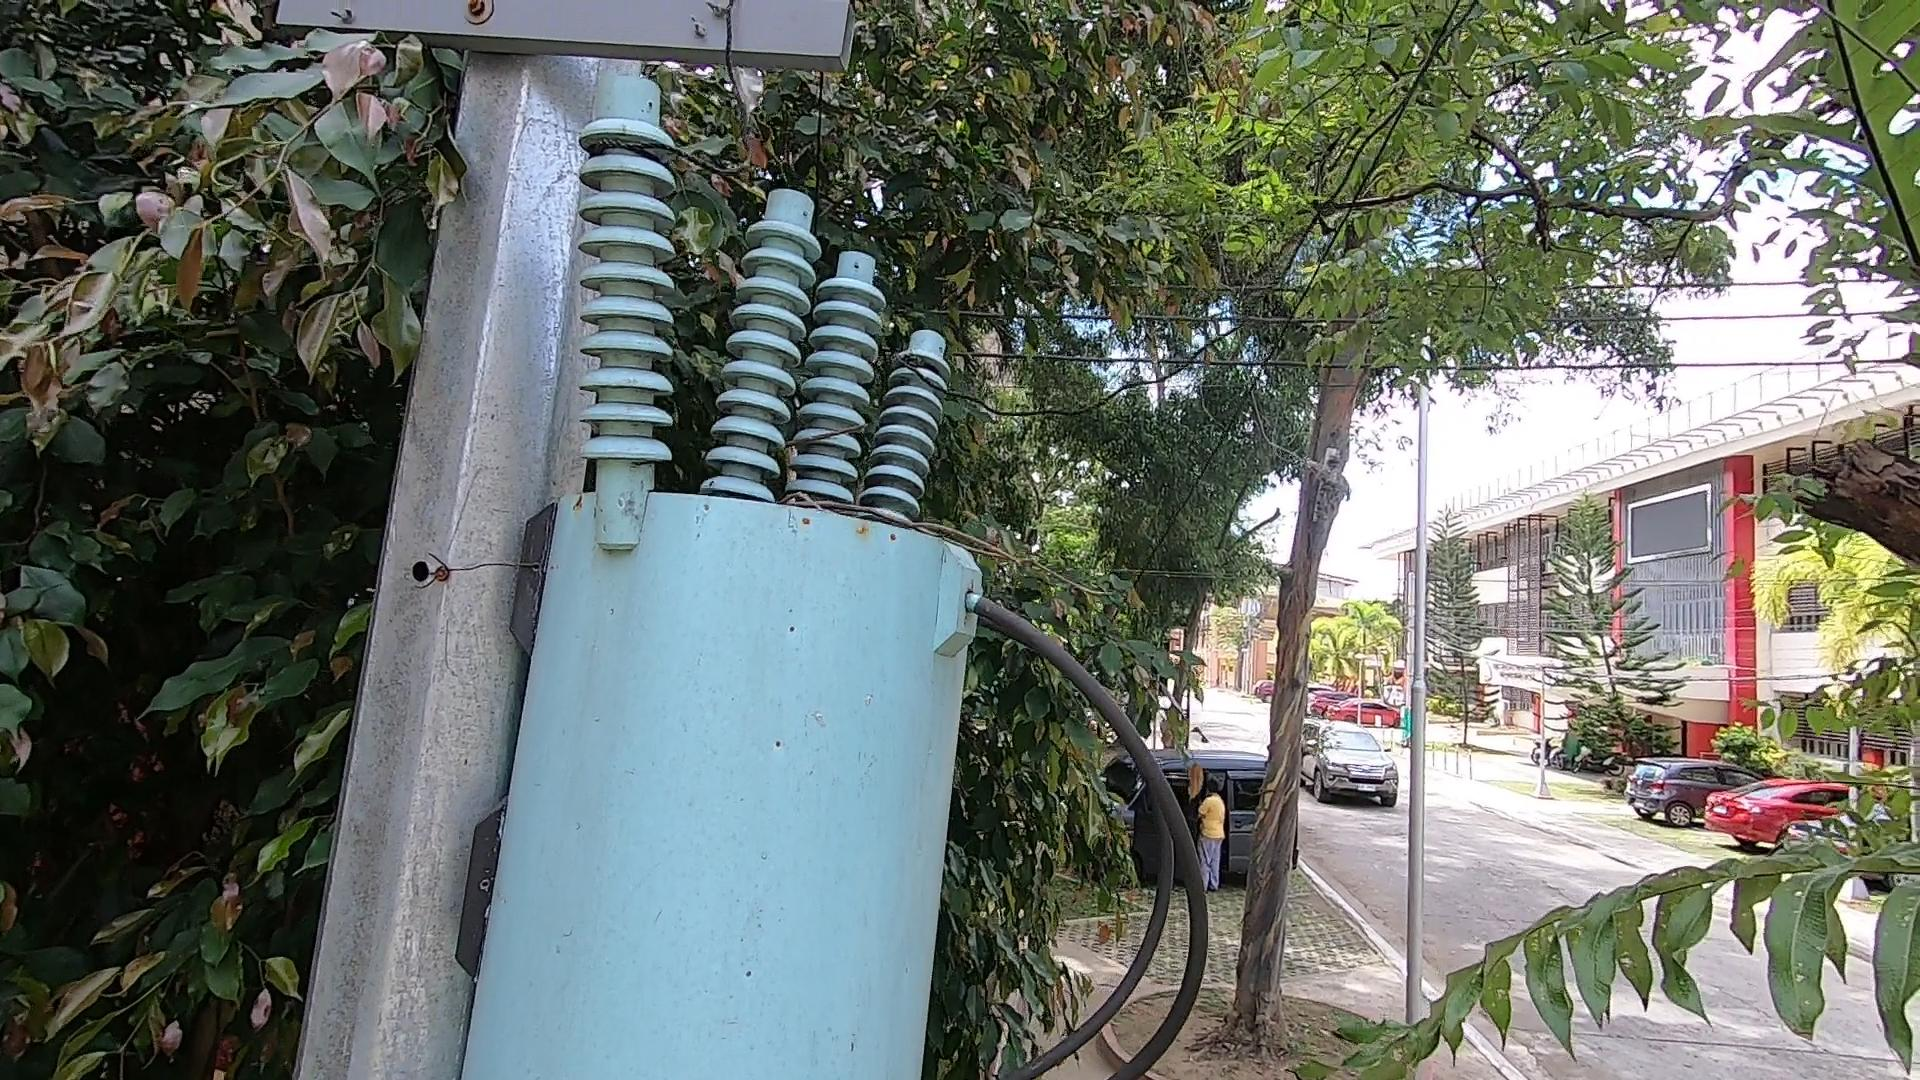tree branch: (775, 477, 1135, 630)
